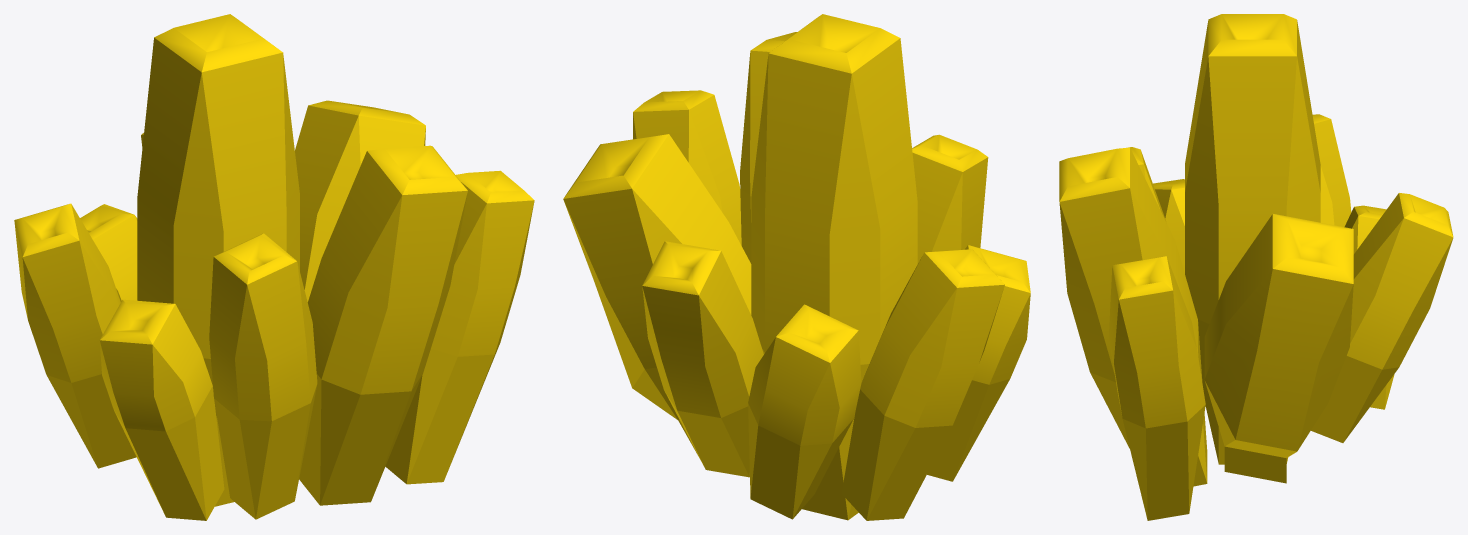
File: coral2.gltf
3 renders of one model, left to right at view 1: azimuth 30°, elevation 25°; view 2: azimuth 150°, elevation 25°; view 3: azimuth 270°, elevation 25°, orthographic. The views are drawn at different scales.
Bounding box in the file's own units: 3.37 × 3.44 × 2.9.
